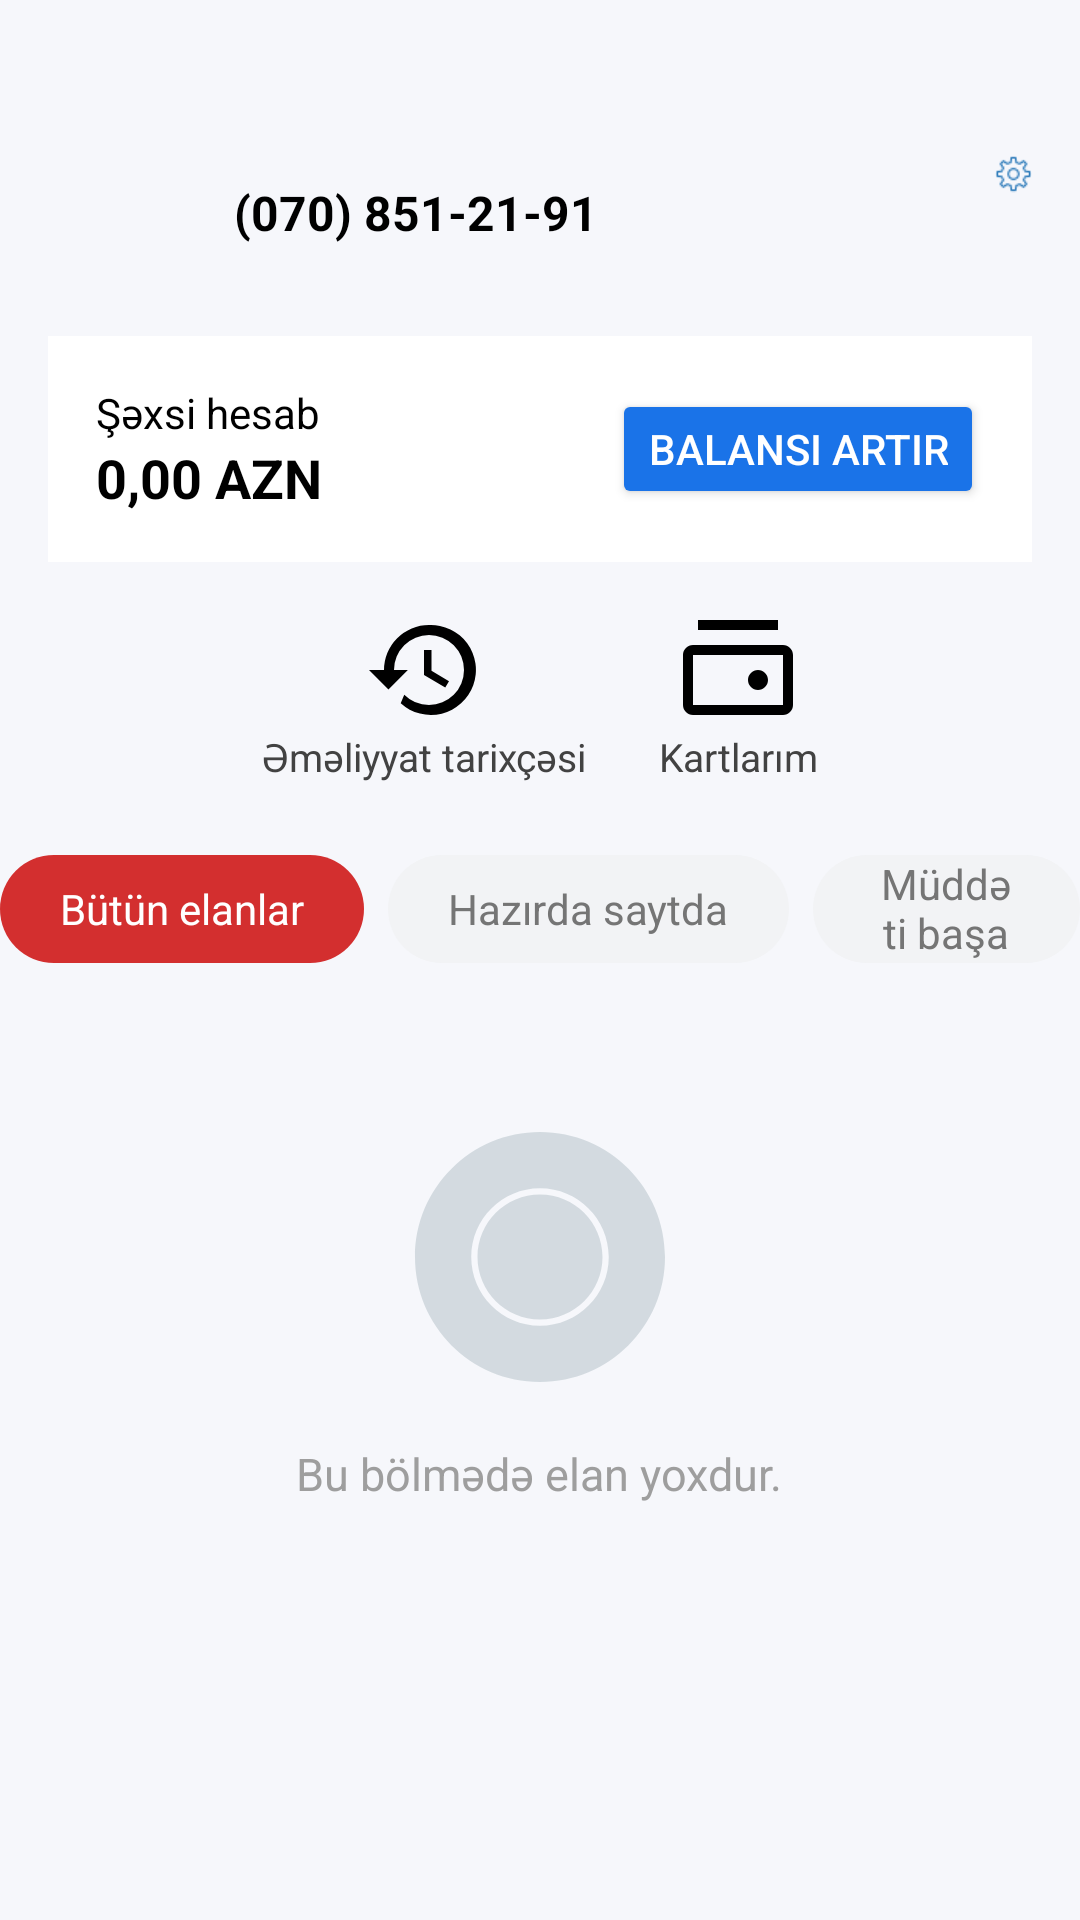

Point at icon controls on the screen. Image size 1080px×1920px, points as (x,y).
settings: (1013,174)
wallet: (738,667)
